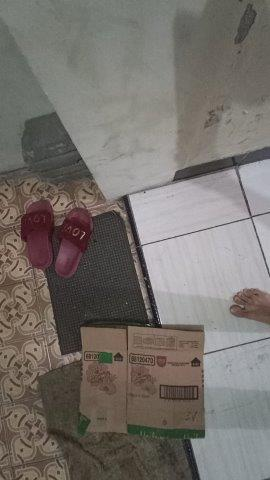kardus: (80, 327, 204, 438)
